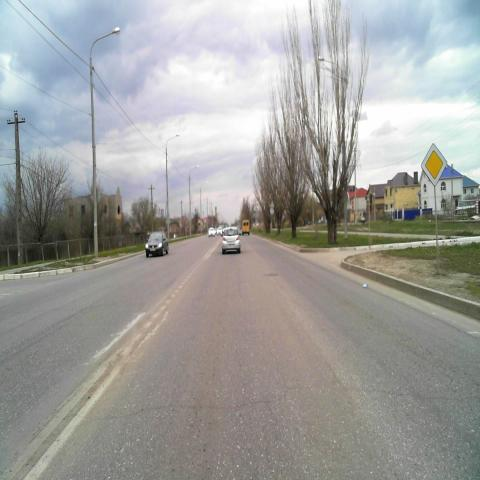2_1: (421, 142, 448, 188)
